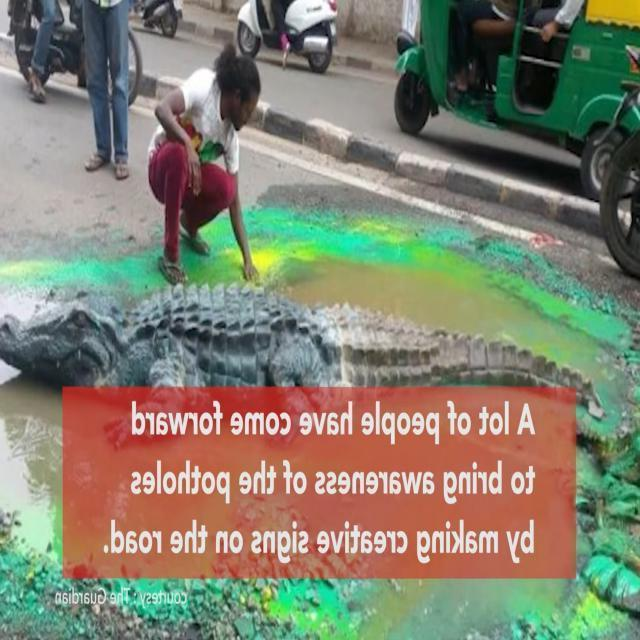Burst: (252, 485, 591, 640), (273, 253, 604, 387), (1, 423, 262, 577)
